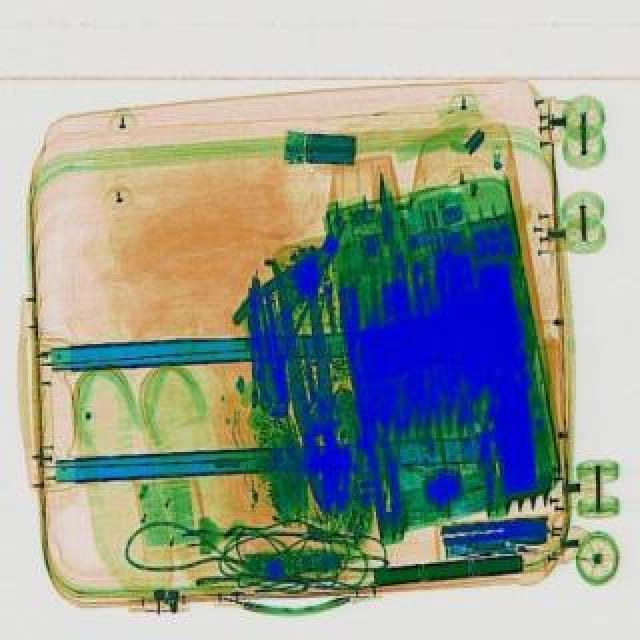wrench: (274, 254, 346, 514)
